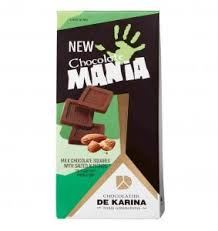Chocolate: (50, 7, 166, 223)
